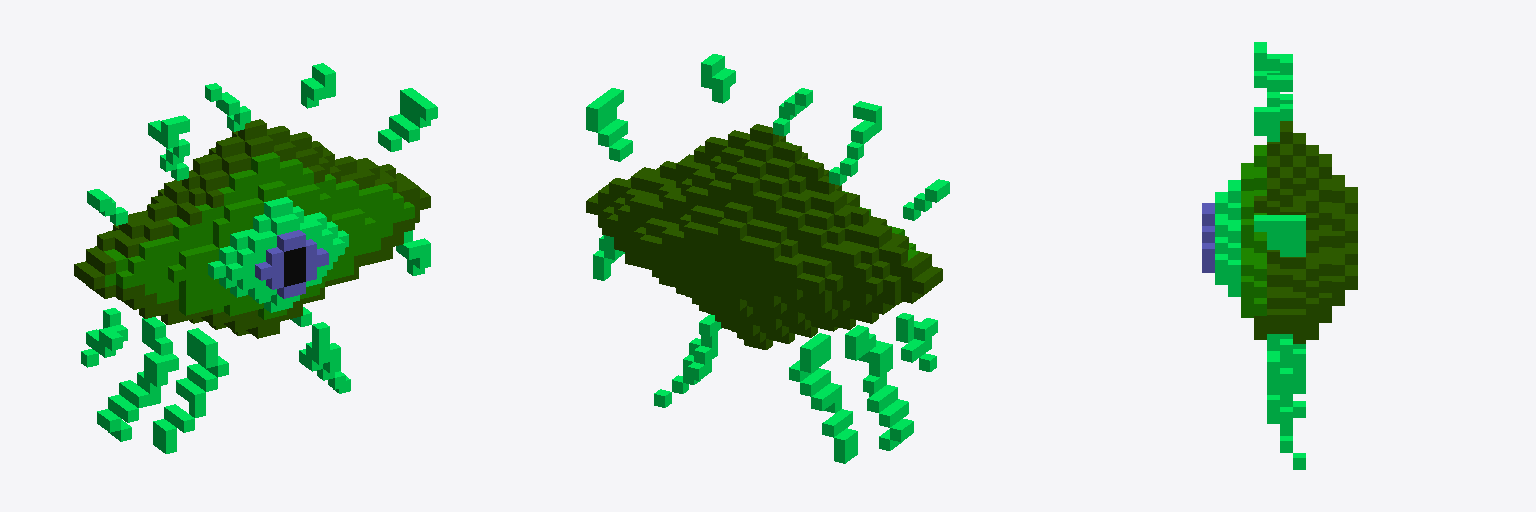
3 renders of one model, left to right at view 1: azimuth 30°, elevation 25°; view 2: azimuth 150°, elevation 25°; view 3: azimuth 270°, elevation 25°, orthographic.
Parts seen in each view (by area): view 1: object 1; view 2: object 1; view 3: object 1.
Boxes of the visible parts, <box> form: object 1: <box>74,63,437,453</box>; object 1: <box>586,54,949,463</box>; object 1: <box>1202,42,1357,469</box>.
Bounding box in the file's own units: 3 × 3 × 1.2.
Materials: 1 (1 with a texture image).